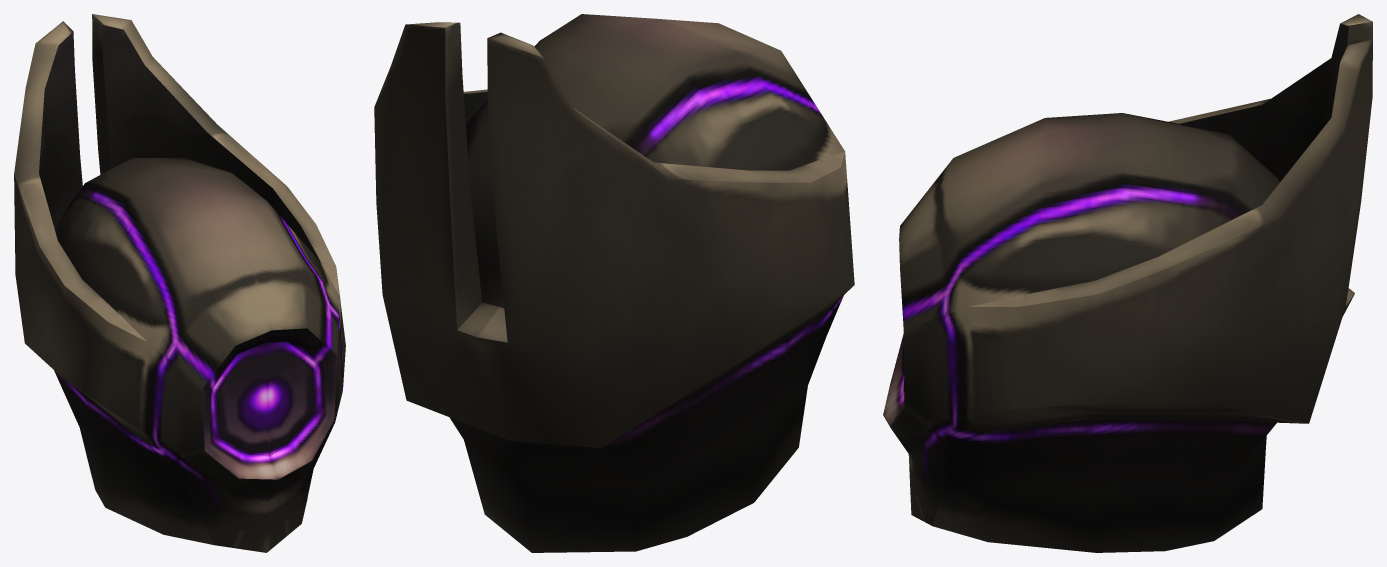
File: transmuter_helm_drop.fbx
3 renders of one model, left to right at view 1: azimuth 30°, elevation 25°; view 2: azimuth 150°, elevation 25°; view 3: azimuth 270°, elevation 25°, orthographic. The views are drawn at different scales.
Parts seen in each view (by area): view 1: Material_#224/helmet; view 2: Material_#224/helmet; view 3: Material_#224/helmet.
Part boxes in pixels (bbox=[...]): Material_#224/helmet: bbox=[14, 14, 345, 552]; Material_#224/helmet: bbox=[374, 14, 854, 552]; Material_#224/helmet: bbox=[883, 14, 1372, 552].
Bounding box in the file's own units: 0.3013 × 0.4289 × 0.3929.
